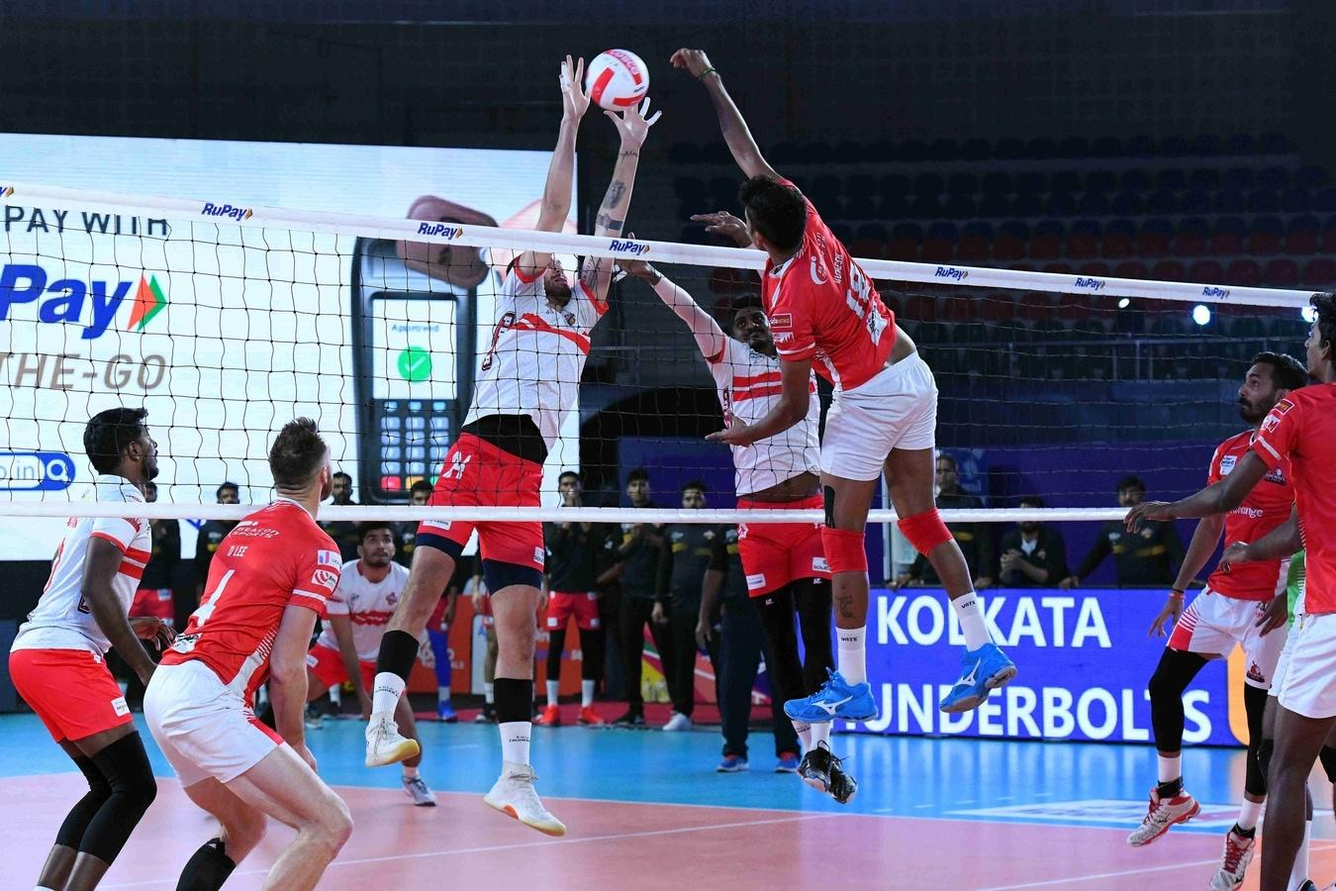ballon_volley: (583, 47, 651, 113)
